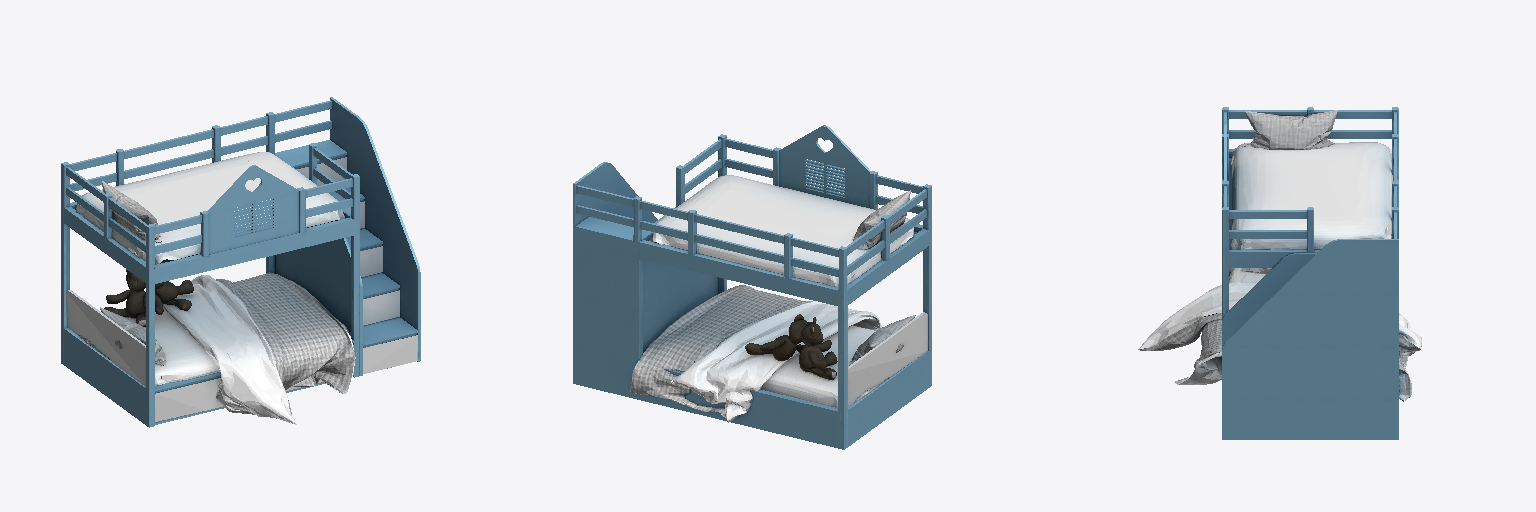
3 views of the same model, side by side, from view 1: azimuth 30°, elevation 25°; view 2: azimuth 150°, elevation 25°; view 3: azimuth 270°, elevation 25° (orthographic).
Parts seen in each view (by area): view 1: solid_005, solid_001, solid_002, solid_003, solid_006; view 2: solid_005, solid_001, solid_002, solid_003, solid_006; view 3: solid_005, solid_001, solid_002.
Boxes of the visible parts, x1,y1,x2,y2 form: solid_005: [61, 97, 420, 427]; solid_001: [75, 152, 355, 424]; solid_002: [100, 180, 354, 421]; solid_003: [66, 157, 417, 421]; solid_006: [104, 270, 193, 326]; solid_005: [573, 125, 931, 449]; solid_001: [629, 175, 913, 422]; solid_002: [630, 190, 915, 418]; solid_003: [848, 312, 927, 406]; solid_006: [745, 314, 837, 379]; solid_005: [1222, 107, 1398, 439]; solid_001: [1138, 142, 1421, 401]; solid_002: [1140, 110, 1420, 400].
Bounding box in the file's own units: 1.51 × 1.25 × 1.37.
1 materials, 1 textured.